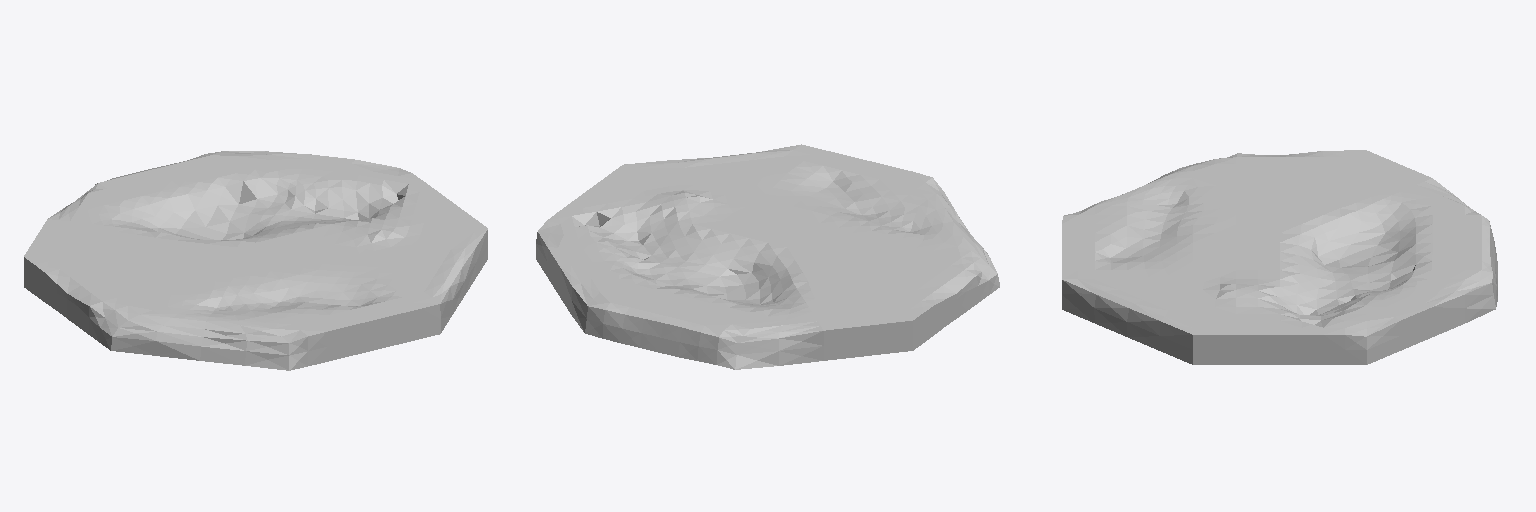
The model's file is airPadloHI.obj.
3 views of the same model, side by side, from view 1: azimuth 30°, elevation 25°; view 2: azimuth 150°, elevation 25°; view 3: azimuth 270°, elevation 25° (orthographic).
Bounding box in the file's own units: 23.27 × 2.07 × 23.27.